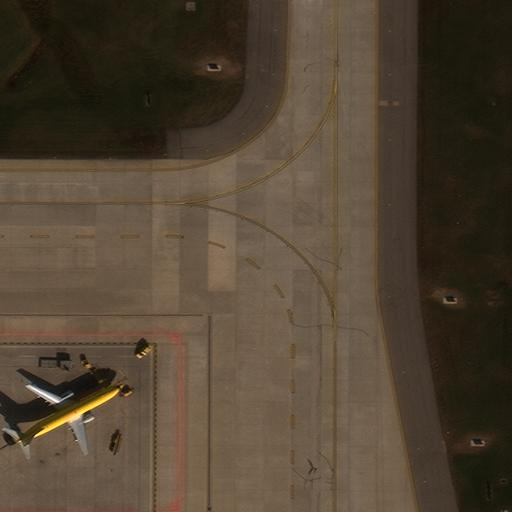Medium Civil Transport: (16, 384, 122, 453)
